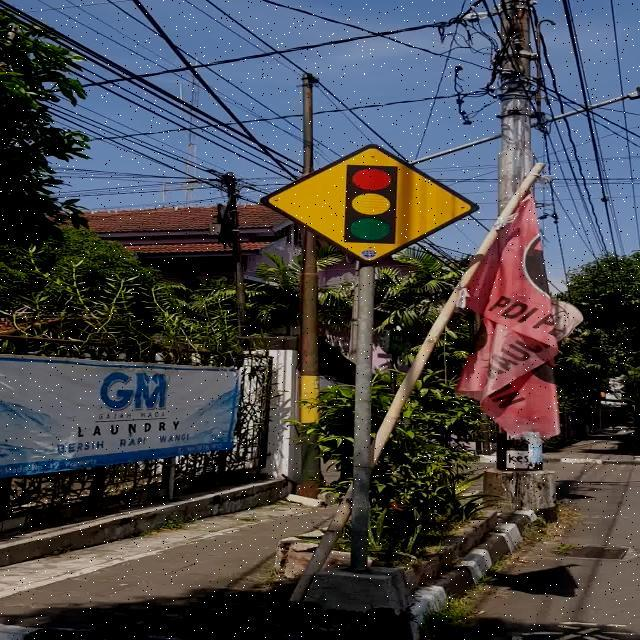Lampu Lalu Lintas: (260, 143, 480, 264)
